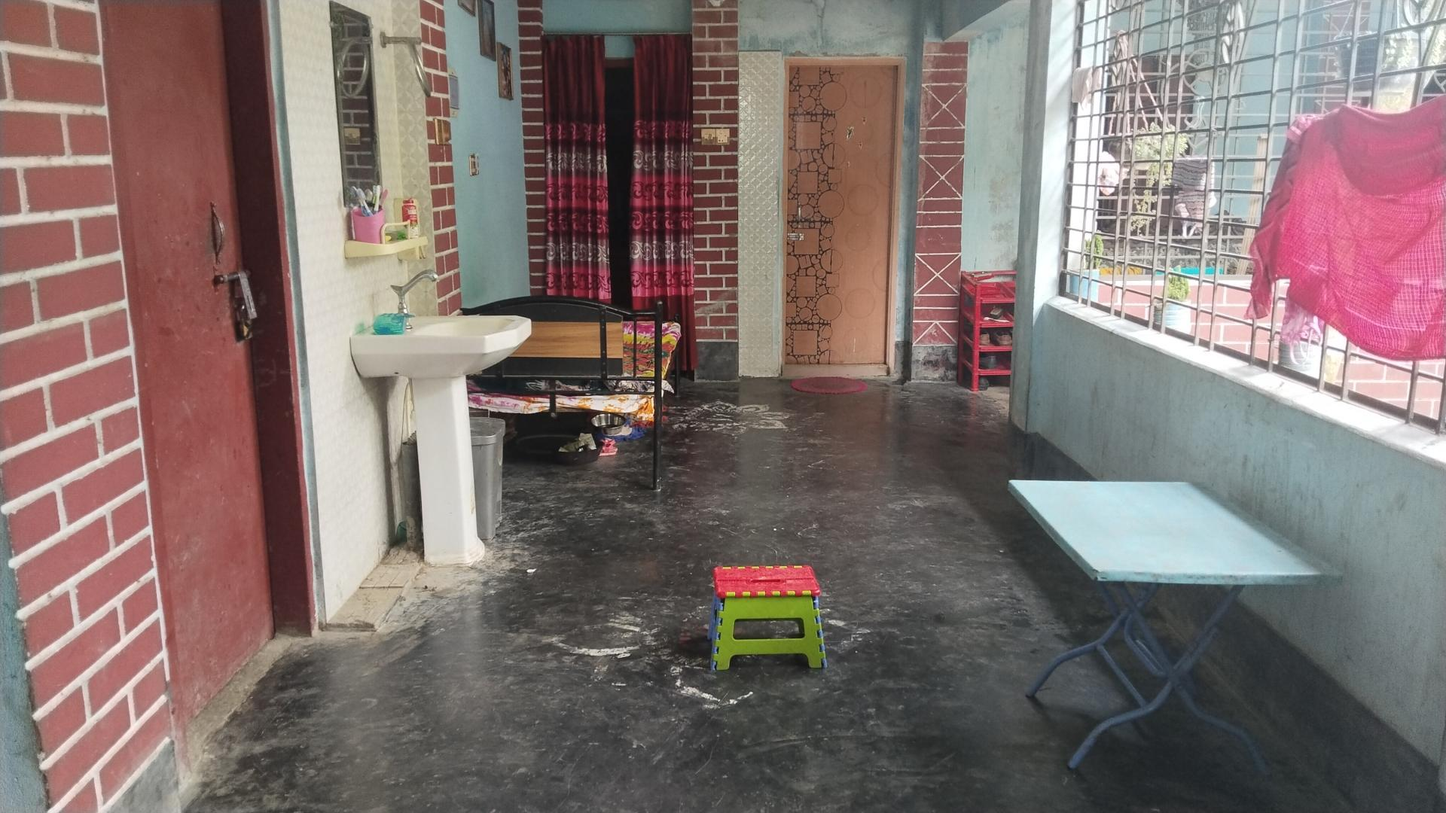Door: (785, 64, 890, 369)
Stool: (713, 565, 827, 674)
Table: (1008, 478, 1341, 772)
